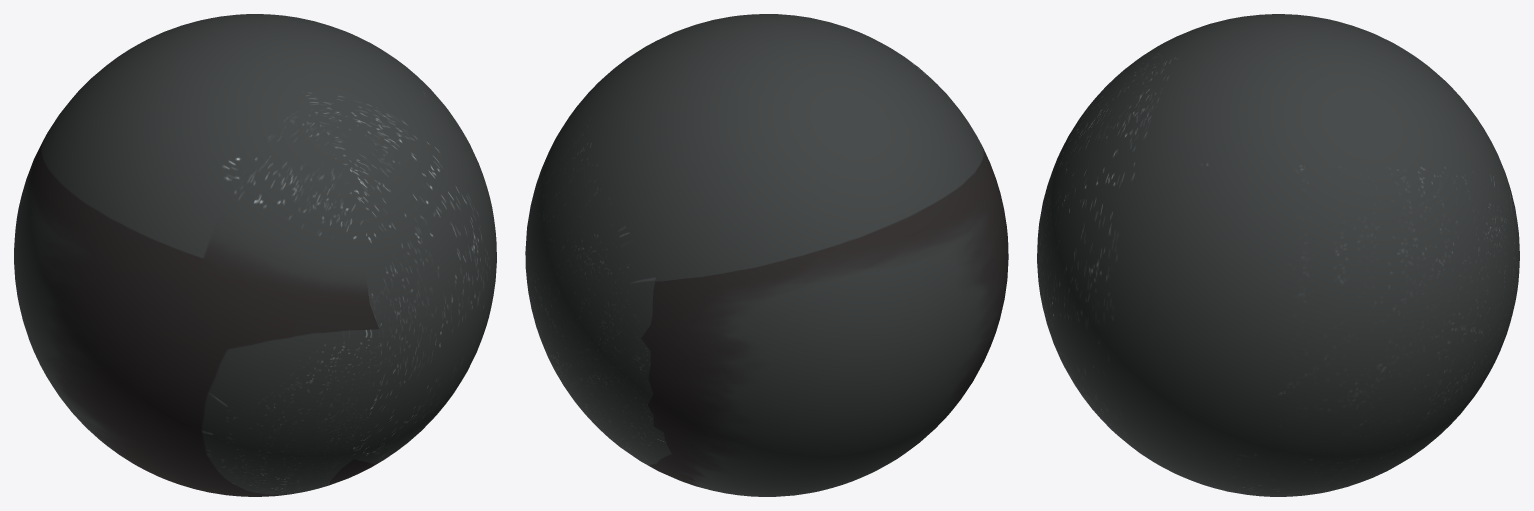
File: PLANET1.fbx
The picture shows the model from 3 angles, left to right: view 1: azimuth 30°, elevation 25°; view 2: azimuth 150°, elevation 25°; view 3: azimuth 270°, elevation 25°; orthographic projection.
Visible parts, largest first — view 1: Sphere; view 2: Sphere; view 3: Sphere.
Boxes of the visible parts, left/top/right/bottom form: Sphere: left=14, top=14, right=496, bottom=496; Sphere: left=525, top=14, right=1008, bottom=496; Sphere: left=1037, top=14, right=1519, bottom=496.
Bounding box in the file's own units: 17779 × 17781 × 17783.
